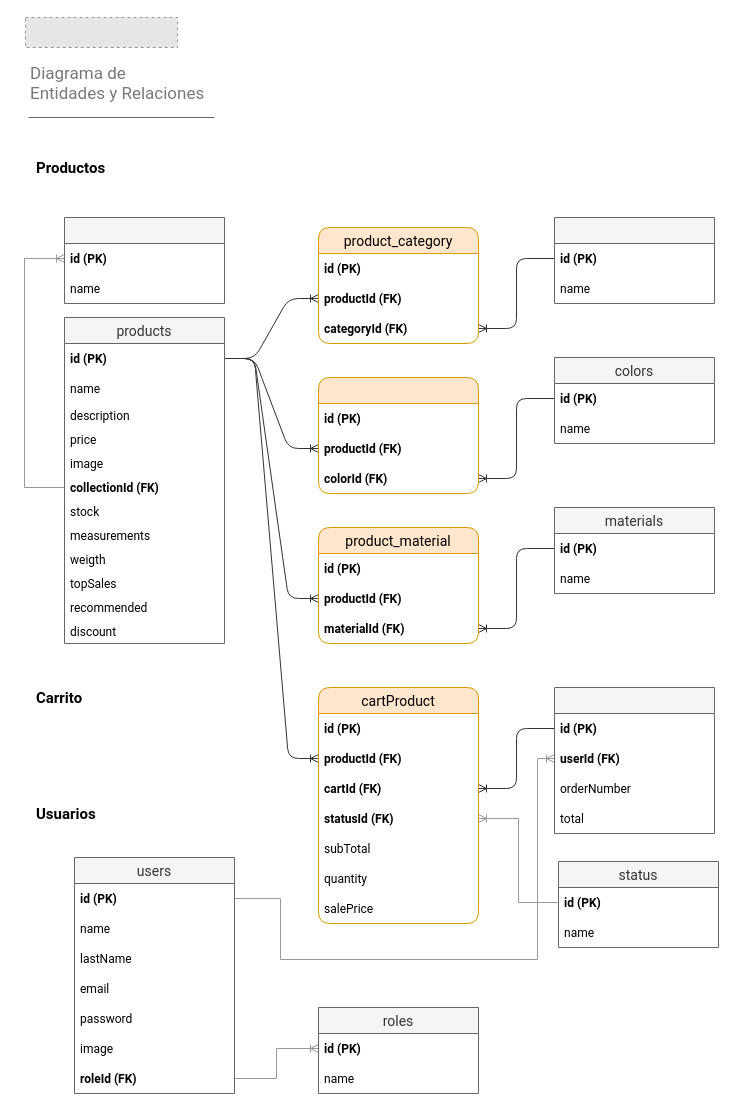
This 736x1111 diagram has some shape labels left out. Grey dashed boxes stand in for pictures. Each missing label, with the box of its shape:
carts: (554, 686, 714, 834)
categories: (554, 216, 714, 304)
collections: (64, 216, 224, 304)
product_color: (318, 376, 478, 494)
